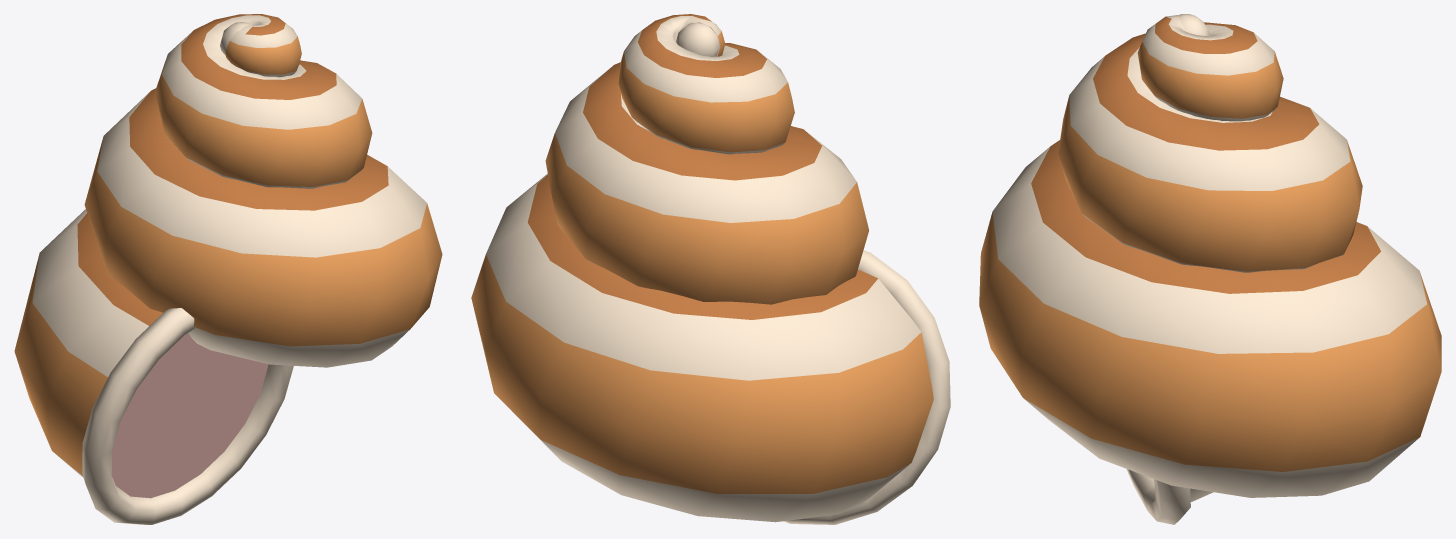
The model's file is concha-caracol.glb.
The picture shows the model from 3 angles, left to right: view 1: azimuth 30°, elevation 25°; view 2: azimuth 150°, elevation 25°; view 3: azimuth 270°, elevation 25°; orthographic projection. The views are drawn at different scales.
Visible parts, largest first — view 1: concha-caracol; view 2: concha-caracol; view 3: concha-caracol.
Boxes of the visible parts, x1,y1,x2,y2 form: concha-caracol: (14,14,442,524); concha-caracol: (471,14,950,524); concha-caracol: (979,14,1441,524).
Size of the model in its own units: 0.0996 by 0.1159 by 0.0895.
